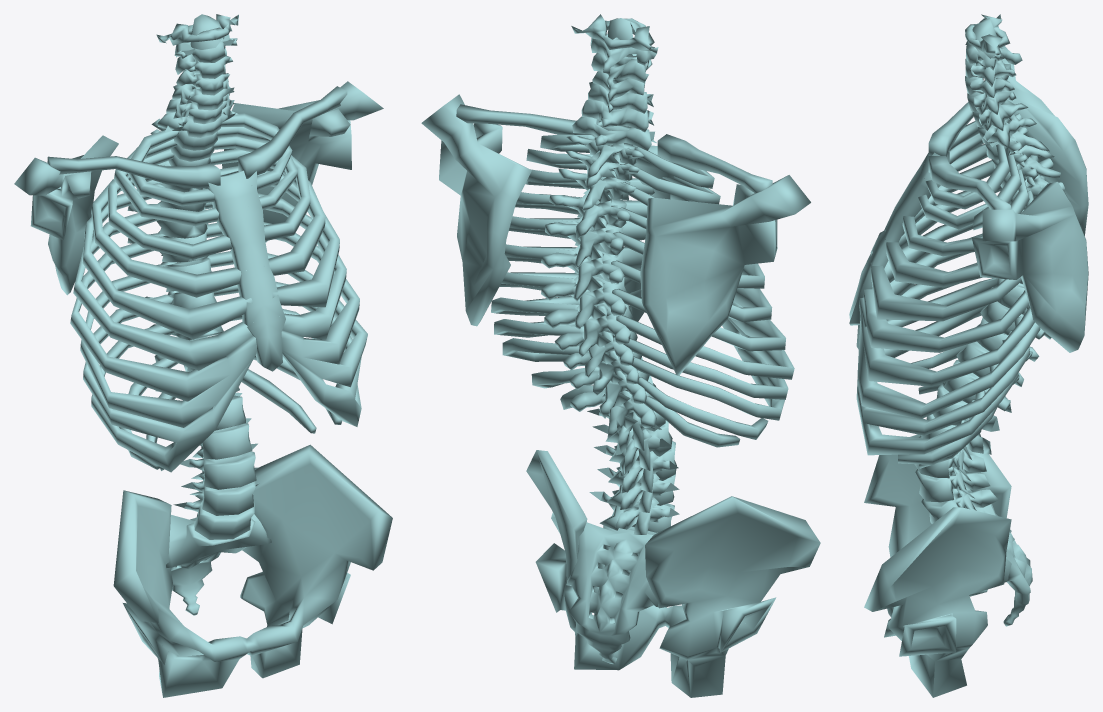
File: Skelly_spine_v0.fbx
The picture shows the model from 3 angles, left to right: view 1: azimuth 30°, elevation 25°; view 2: azimuth 150°, elevation 25°; view 3: azimuth 270°, elevation 25°; orthographic projection. The views are drawn at different scales.
Visible parts, largest first — view 1: Skelly_spine; view 2: Skelly_spine; view 3: Skelly_spine.
Boxes of the visible parts, x1=… form: Skelly_spine: x1=14, y1=14, x2=392, y2=697; Skelly_spine: x1=421, y1=14, x2=820, y2=697; Skelly_spine: x1=849, y1=14, x2=1088, y2=697.
Size of the model in its own units: 45.65 by 79.47 by 26.74.
